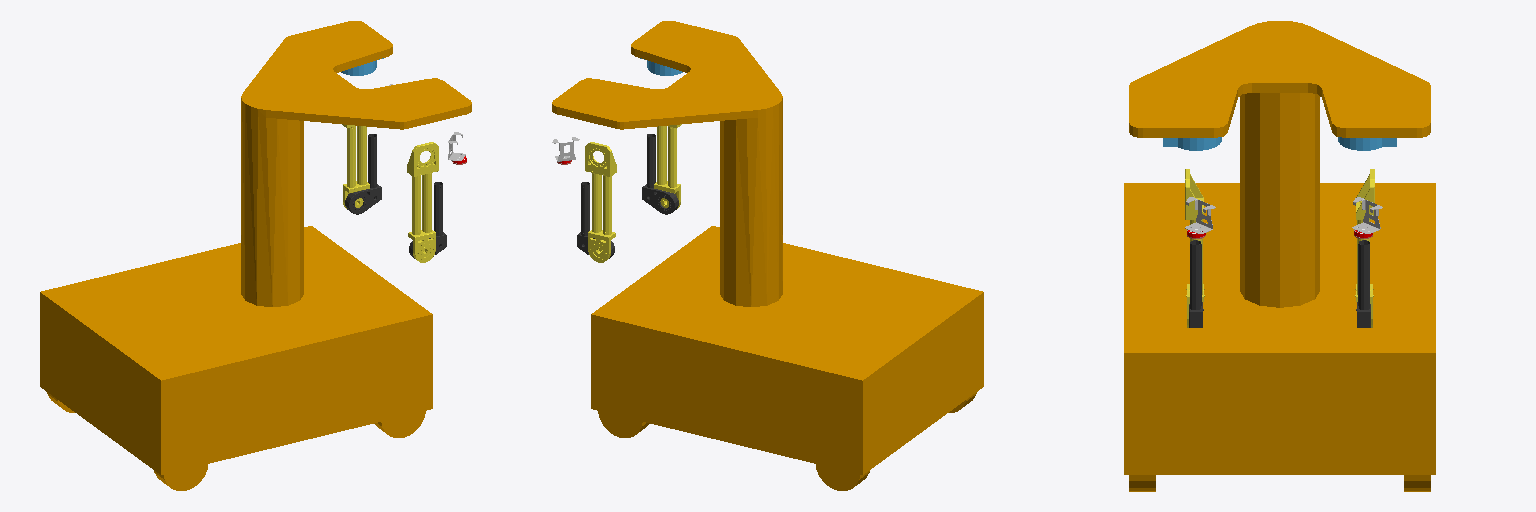
robot.urdf — dual_arm:
<?xml version="1.0" ?>
<!-- =================================================================================== -->
<!-- |    This document was autogenerated by xacro from dual_arm.urdf.xacro            | -->
<!-- |    EDITING THIS FILE BY HAND IS NOT RECOMMENDED                                 | -->
<!-- =================================================================================== -->
<robot name="dual_arm">
  <link name="base_link">
    <visual>
      <origin rpy="0 0 0" xyz="0 0 0"/>
      <geometry>
        <mesh filename="package://asystr_dual_arm_model/meshes/visual/ati_vehicle.dae" scale="0.0018 0.0018 0.0018"/>
      </geometry>
    </visual>
    <collision>
      <origin rpy="0 0 0" xyz="0 0 0"/>
      <geometry>
        <mesh filename="package://asystr_dual_arm_model/meshes/collision/ati_vehicle.stl" scale="0.0018 0.0018 0.0018"/>
      </geometry>
    </collision>
  </link>
  <!-- Import dependency files -->
  <!-- Import dependency files -->
  <!-- Create Links -->
  <link name="left_base_link">
    <visual>
      <origin rpy="0 0 0" xyz="0 0 0"/>
      <geometry>
        <mesh filename="package://asystr_sensible_model/meshes/visual/asystr_sensible/base_link.dae" scale="0.001 0.001 0.001"/>
      </geometry>
    </visual>
    <collision>
      <origin rpy="0 0 0" xyz="0 0 0"/>
      <geometry>
        <mesh filename="package://asystr_sensible_model/meshes/collision/asystr_sensible/base_link.stl" scale="0.001 0.001 0.001"/>
      </geometry>
    </collision>
    <inertial>
      <origin rpy="0 0 0" xyz="0 0 0"/>
      <mass value="0.01"/>
      <inertia ixx="0.01" ixy="0.0" ixz="0.0" iyy="0.01" iyz="0.0" izz="0.01"/>
    </inertial>
  </link>
  <link name="left_link_1">
    <visual>
      <origin rpy="0 0 0" xyz="0 0 0"/>
      <geometry>
        <mesh filename="package://asystr_sensible_model/meshes/visual/asystr_sensible/link_1.dae" scale="0.001 0.001 0.001"/>
      </geometry>
    </visual>
    <collision>
      <origin rpy="0 0 0" xyz="0 0 0"/>
      <geometry>
        <mesh filename="package://asystr_sensible_model/meshes/collision/asystr_sensible/link_1.stl" scale="0.001 0.001 0.001"/>
      </geometry>
    </collision>
    <inertial>
      <origin rpy="0 0 0" xyz="0 0 0"/>
      <mass value="0.01"/>
      <inertia ixx="0.01" ixy="0.0" ixz="0.0" iyy="0.01" iyz="0.0" izz="0.01"/>
    </inertial>
  </link>
  <link name="left_link_2">
    <visual>
      <origin rpy="0 0 0" xyz="0 0 0"/>
      <geometry>
        <mesh filename="package://asystr_sensible_model/meshes/visual/asystr_sensible/link_2.dae" scale="0.001 0.001 0.001"/>
      </geometry>
    </visual>
    <collision>
      <origin rpy="0 0 0" xyz="0 0 0"/>
      <geometry>
        <mesh filename="package://asystr_sensible_model/meshes/collision/asystr_sensible/link_2.stl" scale="0.001 0.001 0.001"/>
      </geometry>
    </collision>
    <inertial>
      <origin rpy="0 0 0" xyz="0 0 0"/>
      <mass value="0.01"/>
      <inertia ixx="0.01" ixy="0.0" ixz="0.0" iyy="0.01" iyz="0.0" izz="0.01"/>
    </inertial>
  </link>
  <link name="left_link_3">
    <visual>
      <origin rpy="0 0 0" xyz="0 0 0"/>
      <geometry>
        <mesh filename="package://asystr_sensible_model/meshes/visual/asystr_sensible/link_3.dae" scale="0.001 0.001 0.001"/>
      </geometry>
    </visual>
    <collision>
      <origin rpy="0 0 0" xyz="0 0 0"/>
      <geometry>
        <mesh filename="package://asystr_sensible_model/meshes/collision/asystr_sensible/link_3.stl" scale="0.001 0.001 0.001"/>
      </geometry>
    </collision>
    <inertial>
      <origin rpy="0 0 0" xyz="0 0 0"/>
      <mass value="0.01"/>
      <inertia ixx="0.01" ixy="0.0" ixz="0.0" iyy="0.01" iyz="0.0" izz="0.01"/>
    </inertial>
  </link>
  <link name="left_wrist_adapter">
    <visual>
      <origin rpy="0 0 0" xyz="0 0 0"/>
      <geometry>
        <mesh filename="package://asystr_sensible_model/meshes/visual/YPR/wrist_adapter.dae" scale="0.001 0.001 0.001"/>
      </geometry>
    </visual>
    <collision>
      <origin rpy="0 0 0" xyz="0 0 0"/>
      <geometry>
        <mesh filename="package://asystr_sensible_model/meshes/collision/YPR/wrist_adapter.stl" scale="0.001 0.001 0.001"/>
      </geometry>
    </collision>
    <inertial>
      <origin rpy="0 0 0" xyz="0 0 0"/>
      <mass value="0.01"/>
      <inertia ixx="0.01" ixy="0.0" ixz="0.0" iyy="0.01" iyz="0.0" izz="0.01"/>
    </inertial>
  </link>
  <!-- Create Joints -->
  <joint name="left_joint_1" type="revolute">
    <parent link="left_base_link"/>
    <child link="left_link_1"/>
    <origin rpy="0 0.0 0.0" xyz="0 -0.0 0.2592"/>
    <axis xyz="0 0 1"/>
    <limit effort="100.0" lower="-3.141592653589793" upper="3.141592653589793" velocity="100.0"/>
  </joint>
  <joint name="left_joint_2" type="revolute">
    <parent link="left_link_1"/>
    <child link="left_link_2"/>
    <origin rpy="1.5707963 -1.5707962999999996 4.2089324414645615e-08" xyz="0 0.0 0.0"/>
    <axis xyz="0 0 1"/>
    <limit effort="100.0" lower="-2.0943951023931953" upper="1.5707963267948966" velocity="100.0"/>
  </joint>
  <joint name="left_joint_3" type="revolute">
    <parent link="left_link_2"/>
    <child link="left_link_3"/>
    <origin rpy="0 0.0 -1.5707963" xyz="0.45 0.0 0.0"/>
    <axis xyz="0 0 1"/>
    <limit effort="100.0" lower="0.0" upper="3.141592653589793" velocity="100.0"/>
  </joint>
  <joint name="left_wrist_frame" type="fixed">
    <parent link="left_link_3"/>
    <child link="left_wrist_adapter"/>
    <origin rpy="1.5707963 1.5707962999999996 -4.2089324414645615e-08" xyz="0.117 -0.3299999999999999 8.84231587305945e-09"/>
  </joint>
  <!-- Create Links -->
  <link name="left_link_4">
    <visual>
      <origin rpy="0 0 0" xyz="0 0 0"/>
      <geometry>
        <mesh filename="package://asystr_sensible_model/meshes/visual/YPR/differential.dae" scale="0.001 0.001 0.001"/>
      </geometry>
    </visual>
    <collision>
      <origin rpy="0 0 0" xyz="0 0 0"/>
      <geometry>
        <mesh filename="package://asystr_sensible_model/meshes/collision/YPR/differential.stl" scale="0.001 0.001 0.001"/>
      </geometry>
    </collision>
    <inertial>
      <origin rpy="0 0 0" xyz="0 0 0"/>
      <mass value="0.01"/>
      <inertia ixx="0.01" ixy="0.0" ixz="0.0" iyy="0.01" iyz="0.0" izz="0.01"/>
    </inertial>
  </link>
  <link name="left_link_5">
    <inertial>
      <origin rpy="0 0 0" xyz="0 0 0"/>
      <mass value="0.01"/>
      <inertia ixx="0.01" ixy="0.0" ixz="0.0" iyy="0.01" iyz="0.0" izz="0.01"/>
    </inertial>
  </link>
  <link name="left_link_6">
    <visual>
      <origin rpy="0 0 0" xyz="0 0 0"/>
      <geometry>
        <mesh filename="package://asystr_sensible_model/meshes/visual/YPR/flange.dae" scale="0.001 0.001 0.001"/>
      </geometry>
    </visual>
    <collision>
      <origin rpy="0 0 0" xyz="0 0 0"/>
      <geometry>
        <mesh filename="package://asystr_sensible_model/meshes/collision/YPR/flange.stl" scale="0.001 0.001 0.001"/>
      </geometry>
    </collision>
    <inertial>
      <origin rpy="0 0 0" xyz="0 0 0"/>
      <mass value="0.01"/>
      <inertia ixx="0.01" ixy="0.0" ixz="0.0" iyy="0.01" iyz="0.0" izz="0.01"/>
    </inertial>
  </link>
  <!-- Create Joints -->
  <joint name="left_joint_4" type="revolute">
    <parent link="left_wrist_adapter"/>
    <child link="left_link_4"/>
    <origin rpy="-1.5707963 1.5707962999999996 4.2089324414645615e-08" xyz="0 0.06999999999999998 1.8756427609520045e-09"/>
    <axis xyz="0 0 1"/>
    <limit effort="100.0" lower="-3.141592653589793" upper="3.141592653589793" velocity="100.0"/>
  </joint>
  <joint name="left_joint_5" type="revolute">
    <parent link="left_link_4"/>
    <child link="left_link_5"/>
    <origin rpy="-1.5707963 1.5707962999999996 4.2089324414645615e-08" xyz="0 -0.0 0.0"/>
    <axis xyz="0 0 1"/>
    <limit effort="100.0" lower="0.0" upper="3.141592653589793" velocity="100.0"/>
  </joint>
  <joint name="left_joint_6" type="revolute">
    <parent link="left_link_5"/>
    <child link="left_link_6"/>
    <origin rpy="-1.5707963 -0.0 0.0" xyz="0 0.06199999999999998 1.6612835882717752e-09"/>
    <axis xyz="0 0 1"/>
    <limit effort="100.0" lower="-3.141592653589793" upper="3.141592653589793" velocity="100.0"/>
  </joint>
  <joint name="base_to_left" type="fixed">
    <parent link="base_link"/>
    <child link="left_base_link"/>
    <origin rpy="3.141592653589793 0 0" xyz="0.76 0.28 1.475"/>
  </joint>
  <!-- Import dependency files -->
  <!-- Import dependency files -->
  <!-- Create Links -->
  <link name="right_base_link">
    <visual>
      <origin rpy="0 0 0" xyz="0 0 0"/>
      <geometry>
        <mesh filename="package://asystr_sensible_model/meshes/visual/asystr_sensible/base_link.dae" scale="0.001 -0.001 0.001"/>
      </geometry>
    </visual>
    <collision>
      <origin rpy="0 0 0" xyz="0 0 0"/>
      <geometry>
        <mesh filename="package://asystr_sensible_model/meshes/collision/asystr_sensible/base_link.stl" scale="0.001 -0.001 0.001"/>
      </geometry>
    </collision>
    <inertial>
      <origin rpy="0 0 0" xyz="0 0 0"/>
      <mass value="0.01"/>
      <inertia ixx="0.01" ixy="0.0" ixz="0.0" iyy="0.01" iyz="0.0" izz="0.01"/>
    </inertial>
  </link>
  <link name="right_link_1">
    <visual>
      <origin rpy="0 0 0" xyz="0 0 0"/>
      <geometry>
        <mesh filename="package://asystr_sensible_model/meshes/visual/asystr_sensible/link_1.dae" scale="0.001 -0.001 0.001"/>
      </geometry>
    </visual>
    <collision>
      <origin rpy="0 0 0" xyz="0 0 0"/>
      <geometry>
        <mesh filename="package://asystr_sensible_model/meshes/collision/asystr_sensible/link_1.stl" scale="0.001 -0.001 0.001"/>
      </geometry>
    </collision>
    <inertial>
      <origin rpy="0 0 0" xyz="0 0 0"/>
      <mass value="0.01"/>
      <inertia ixx="0.01" ixy="0.0" ixz="0.0" iyy="0.01" iyz="0.0" izz="0.01"/>
    </inertial>
  </link>
  <link name="right_link_2">
    <visual>
      <origin rpy="0 0 0" xyz="0 0 0"/>
      <geometry>
        <mesh filename="package://asystr_sensible_model/meshes/visual/asystr_sensible/link_2.dae" scale="0.001 0.001 -0.001"/>
      </geometry>
    </visual>
    <collision>
      <origin rpy="0 0 0" xyz="0 0 0"/>
      <geometry>
        <mesh filename="package://asystr_sensible_model/meshes/collision/asystr_sensible/link_2.stl" scale="0.001 0.001 -0.001"/>
      </geometry>
    </collision>
    <inertial>
      <origin rpy="0 0 0" xyz="0 0 0"/>
      <mass value="0.01"/>
      <inertia ixx="0.01" ixy="0.0" ixz="0.0" iyy="0.01" iyz="0.0" izz="0.01"/>
    </inertial>
  </link>
  <link name="right_link_3">
    <visual>
      <origin rpy="0 0 0" xyz="0 0 0"/>
      <geometry>
        <mesh filename="package://asystr_sensible_model/meshes/visual/asystr_sensible/link_3.dae" scale="0.001 0.001 -0.001"/>
      </geometry>
    </visual>
    <collision>
      <origin rpy="0 0 0" xyz="0 0 0"/>
      <geometry>
        <mesh filename="package://asystr_sensible_model/meshes/collision/asystr_sensible/link_3.stl" scale="0.001 0.001 -0.001"/>
      </geometry>
    </collision>
    <inertial>
      <origin rpy="0 0 0" xyz="0 0 0"/>
      <mass value="0.01"/>
      <inertia ixx="0.01" ixy="0.0" ixz="0.0" iyy="0.01" iyz="0.0" izz="0.01"/>
    </inertial>
  </link>
  <link name="right_wrist_adapter">
    <visual>
      <origin rpy="0 0 0" xyz="0 0 0"/>
      <geometry>
        <mesh filename="package://asystr_sensible_model/meshes/visual/YPR/wrist_adapter.dae" scale="0.001 0.001 0.001"/>
      </geometry>
    </visual>
    <collision>
      <origin rpy="0 0 0" xyz="0 0 0"/>
      <geometry>
        <mesh filename="package://asystr_sensible_model/meshes/collision/YPR/wrist_adapter.stl" scale="0.001 0.001 0.001"/>
      </geometry>
    </collision>
    <inertial>
      <origin rpy="0 0 0" xyz="0 0 0"/>
      <mass value="0.01"/>
      <inertia ixx="0.01" ixy="0.0" ixz="0.0" iyy="0.01" iyz="0.0" izz="0.01"/>
    </inertial>
  </link>
  <!-- Create Joints -->
  <joint name="right_joint_1" type="revolute">
    <parent link="right_base_link"/>
    <child link="right_link_1"/>
    <origin rpy="0 0.0 0.0" xyz="0 -0.0 0.2592"/>
    <axis xyz="0 0 1"/>
    <limit effort="100.0" lower="-3.141592653589793" upper="3.141592653589793" velocity="100.0"/>
  </joint>
  <joint name="right_joint_2" type="revolute">
    <parent link="right_link_1"/>
    <child link="right_link_2"/>
    <origin rpy="1.5707963 -1.5707962999999996 4.2089324414645615e-08" xyz="0 0.0 0.0"/>
    <axis xyz="0 0 1"/>
    <limit effort="100.0" lower="-2.0943951023931953" upper="1.5707963267948966" velocity="100.0"/>
  </joint>
  <joint name="right_joint_3" type="revolute">
    <parent link="right_link_2"/>
    <child link="right_link_3"/>
    <origin rpy="0 0.0 -1.5707963" xyz="0.45 0.0 0.0"/>
    <axis xyz="0 0 1"/>
    <limit effort="100.0" lower="0.0" upper="3.141592653589793" velocity="100.0"/>
  </joint>
  <joint name="right_wrist_frame" type="fixed">
    <parent link="right_link_3"/>
    <child link="right_wrist_adapter"/>
    <origin rpy="1.5707963 1.5707962999999996 -4.2089324414645615e-08" xyz="0.117 -0.3299999999999999 8.84231587305945e-09"/>
  </joint>
  <!-- Create Links -->
  <link name="right_link_4">
    <visual>
      <origin rpy="0 0 0" xyz="0 0 0"/>
      <geometry>
        <mesh filename="package://asystr_sensible_model/meshes/visual/YPR/differential.dae" scale="0.001 0.001 0.001"/>
      </geometry>
    </visual>
    <collision>
      <origin rpy="0 0 0" xyz="0 0 0"/>
      <geometry>
        <mesh filename="package://asystr_sensible_model/meshes/collision/YPR/differential.stl" scale="0.001 0.001 0.001"/>
      </geometry>
    </collision>
    <inertial>
      <origin rpy="0 0 0" xyz="0 0 0"/>
      <mass value="0.01"/>
      <inertia ixx="0.01" ixy="0.0" ixz="0.0" iyy="0.01" iyz="0.0" izz="0.01"/>
    </inertial>
  </link>
  <link name="right_link_5">
    <inertial>
      <origin rpy="0 0 0" xyz="0 0 0"/>
      <mass value="0.01"/>
      <inertia ixx="0.01" ixy="0.0" ixz="0.0" iyy="0.01" iyz="0.0" izz="0.01"/>
    </inertial>
  </link>
  <link name="right_link_6">
    <visual>
      <origin rpy="0 0 0" xyz="0 0 0"/>
      <geometry>
        <mesh filename="package://asystr_sensible_model/meshes/visual/YPR/flange.dae" scale="0.001 0.001 0.001"/>
      </geometry>
    </visual>
    <collision>
      <origin rpy="0 0 0" xyz="0 0 0"/>
      <geometry>
        <mesh filename="package://asystr_sensible_model/meshes/collision/YPR/flange.stl" scale="0.001 0.001 0.001"/>
      </geometry>
    </collision>
    <inertial>
      <origin rpy="0 0 0" xyz="0 0 0"/>
      <mass value="0.01"/>
      <inertia ixx="0.01" ixy="0.0" ixz="0.0" iyy="0.01" iyz="0.0" izz="0.01"/>
    </inertial>
  </link>
  <!-- Create Joints -->
  <joint name="right_joint_4" type="revolute">
    <parent link="right_wrist_adapter"/>
    <child link="right_link_4"/>
    <origin rpy="-1.5707963 1.5707962999999996 4.2089324414645615e-08" xyz="0 0.06999999999999998 1.8756427609520045e-09"/>
    <axis xyz="0 0 1"/>
    <limit effort="100.0" lower="-3.141592653589793" upper="3.141592653589793" velocity="100.0"/>
  </joint>
  <joint name="right_joint_5" type="revolute">
    <parent link="right_link_4"/>
    <child link="right_link_5"/>
    <origin rpy="-1.5707963 1.5707962999999996 4.2089324414645615e-08" xyz="0 -0.0 0.0"/>
    <axis xyz="0 0 1"/>
    <limit effort="100.0" lower="0.0" upper="3.141592653589793" velocity="100.0"/>
  </joint>
  <joint name="right_joint_6" type="revolute">
    <parent link="right_link_5"/>
    <child link="right_link_6"/>
    <origin rpy="-1.5707963 -0.0 0.0" xyz="0 0.06199999999999998 1.6612835882717752e-09"/>
    <axis xyz="0 0 1"/>
    <limit effort="100.0" lower="-3.141592653589793" upper="3.141592653589793" velocity="100.0"/>
  </joint>
  <joint name="base_to_right" type="fixed">
    <parent link="base_link"/>
    <child link="right_base_link"/>
    <origin rpy="3.141592653589793 0 0" xyz="0.76 -0.28 1.475"/>
  </joint>
</robot>

--- Render facts (derived) ---
The picture shows the robot from 3 angles, left to right: view 1: azimuth 30°, elevation 25°; view 2: azimuth 150°, elevation 25°; view 3: azimuth 270°, elevation 25°; orthographic projection.
Robot: dual_arm — 17 links, 16 joints (12 revolute, 4 fixed); root link base_link; default pose: all joints at 0.
Visible links, largest first — view 1: base_link, right_link_2, left_link_2, left_link_3, right_link_3; view 2: base_link, left_link_2, right_link_2, right_link_3, left_link_3; view 3: base_link, left_link_3, right_link_3, right_link_2, left_link_2, left_link_6, right_link_6, left_base_link, right_base_link.
Link boxes in pixels (x1,y1,x2,y2): base_link: (40, 21, 471, 490); right_link_2: (407, 142, 438, 262); left_link_2: (342, 124, 369, 208); left_link_3: (345, 134, 381, 214); right_link_3: (409, 182, 446, 258); base_link: (552, 21, 983, 490); left_link_2: (585, 142, 616, 262); right_link_2: (654, 124, 681, 208); right_link_3: (642, 134, 678, 214); left_link_3: (577, 182, 614, 258); base_link: (1124, 21, 1435, 491); left_link_3: (1356, 240, 1370, 327); right_link_3: (1189, 240, 1203, 327); right_link_2: (1185, 169, 1204, 327); left_link_2: (1355, 169, 1374, 327); left_link_6: (1352, 197, 1382, 238); right_link_6: (1185, 197, 1215, 238); left_base_link: (1338, 137, 1396, 150); right_base_link: (1163, 137, 1221, 150).
Bounding box of the posed robot: 1.66 × 1.04 × 1.5 m (x, y, z).
Meshes: 8 distinct files referenced, 9 mesh visuals loaded (5 Collada DAE); not drawn: 6 (reference not matched to a file when rendering).